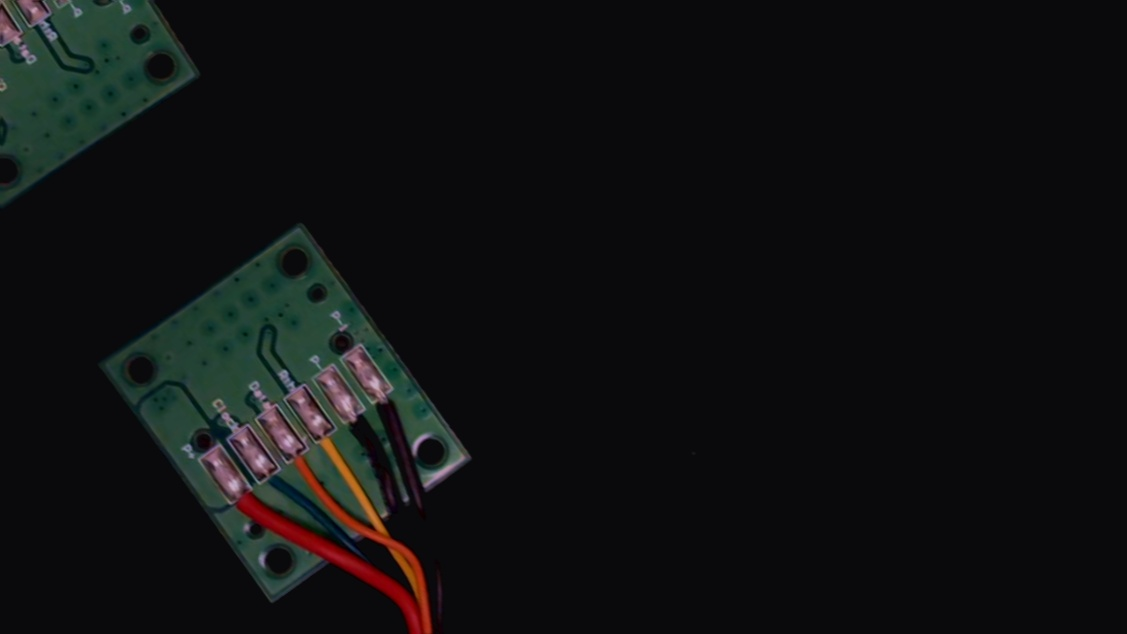Black: (336, 399, 386, 455)
Black1: (363, 379, 414, 436)
Green: (252, 456, 300, 510)
Orange: (279, 438, 328, 494)
Red: (221, 479, 275, 538)
Yellow: (306, 418, 356, 476)
